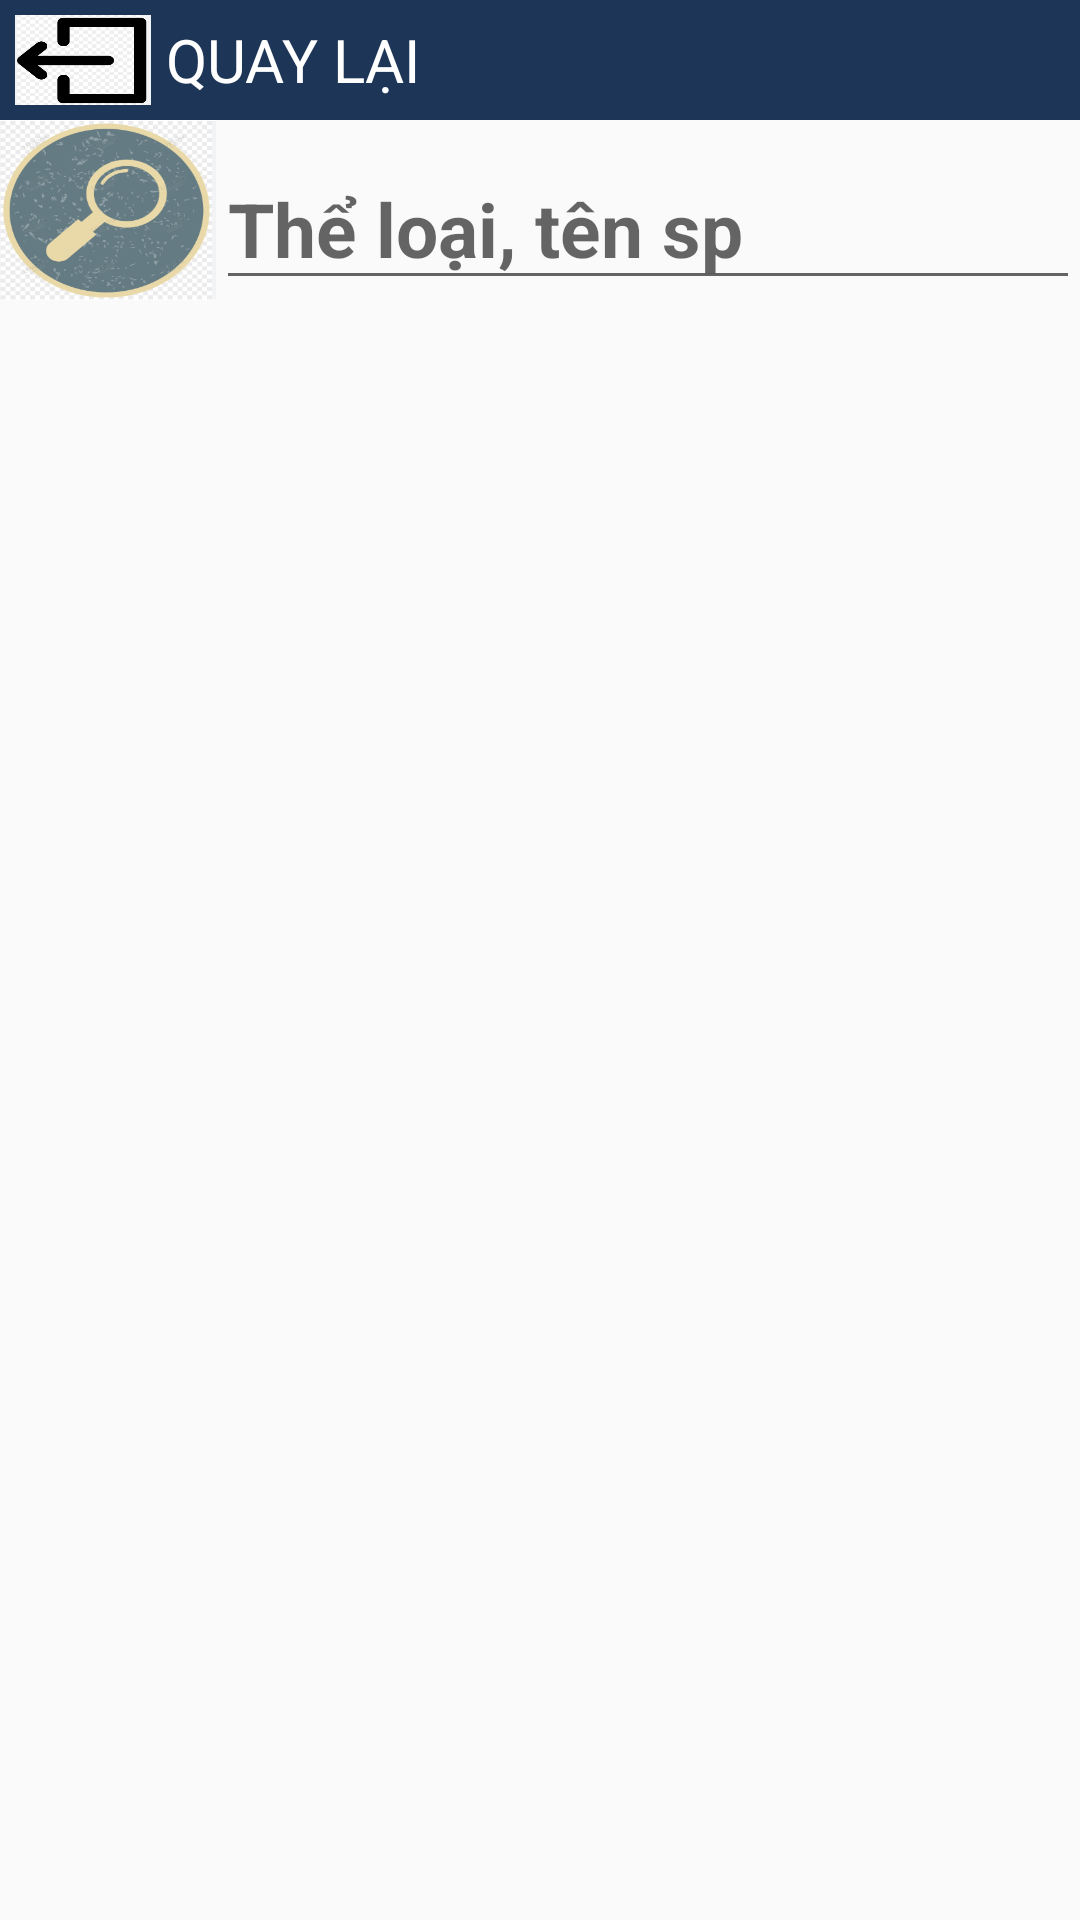

Named icons in this screenshot (1080×1920) and their centers, (x,y):
iconexit: (83,60)
iconfind: (106,210)
